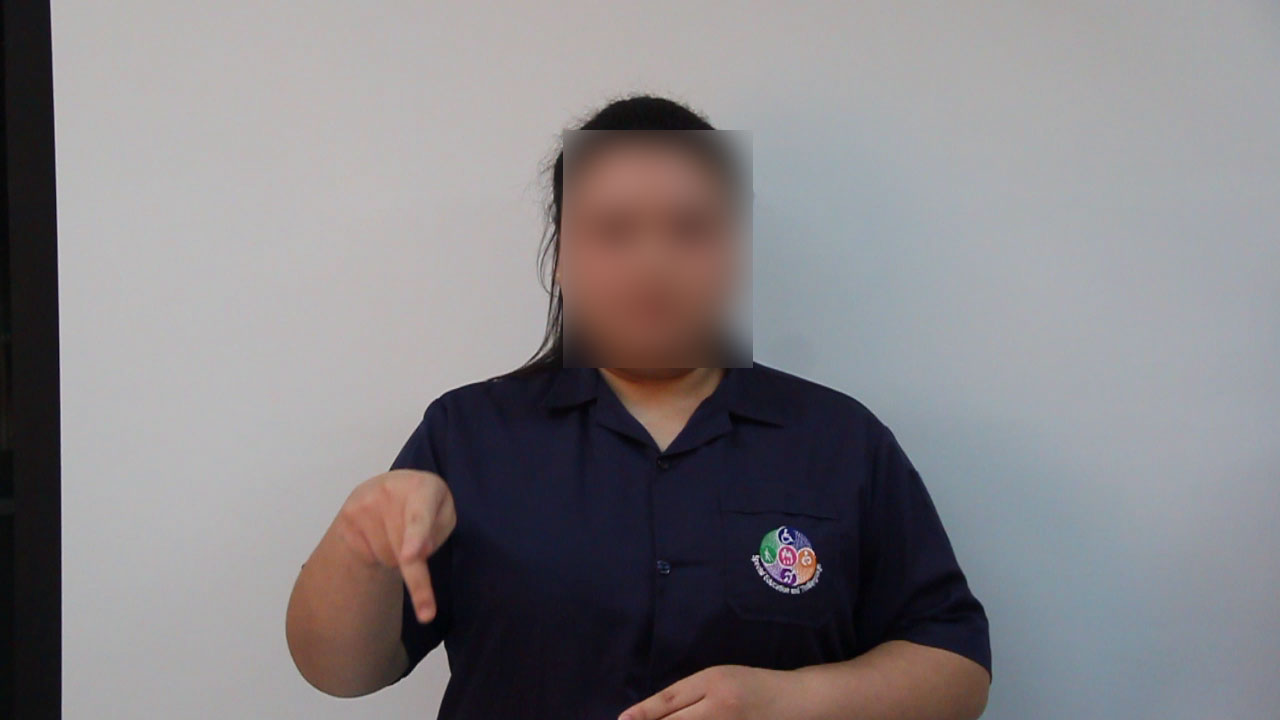por: (324, 458, 468, 633)
